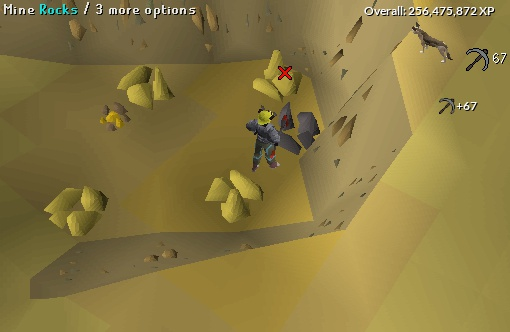gold: (199, 165, 274, 225), (114, 57, 180, 117), (42, 183, 107, 239)
